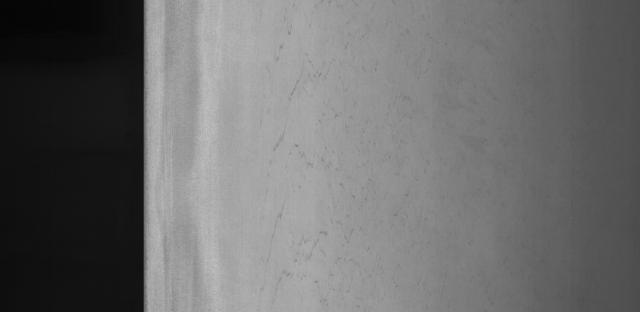silk_spot: (253, 36, 439, 255)
